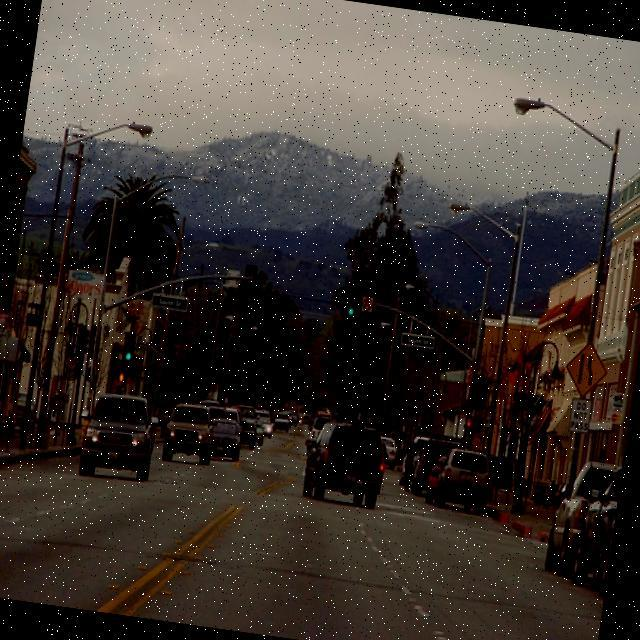fire_hydrant: (78, 418, 89, 442)
